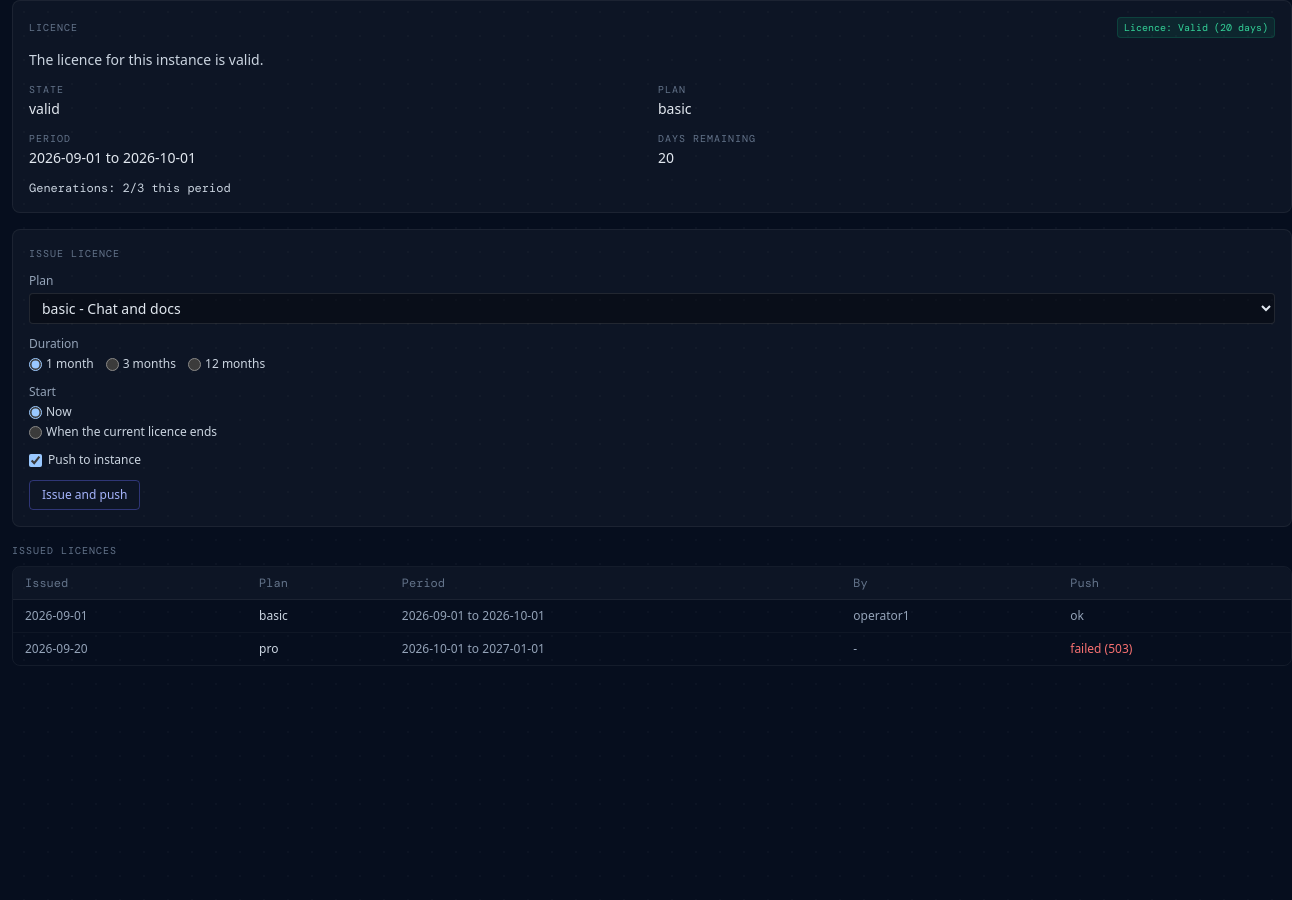
Test: licence issue form › shows a push failure with the status and the instance reason
The width and height of the screenshot is (1292, 900).
Click the button "Issue and push" at {"x": 85, "y": 495}, box [29,480,140,510]
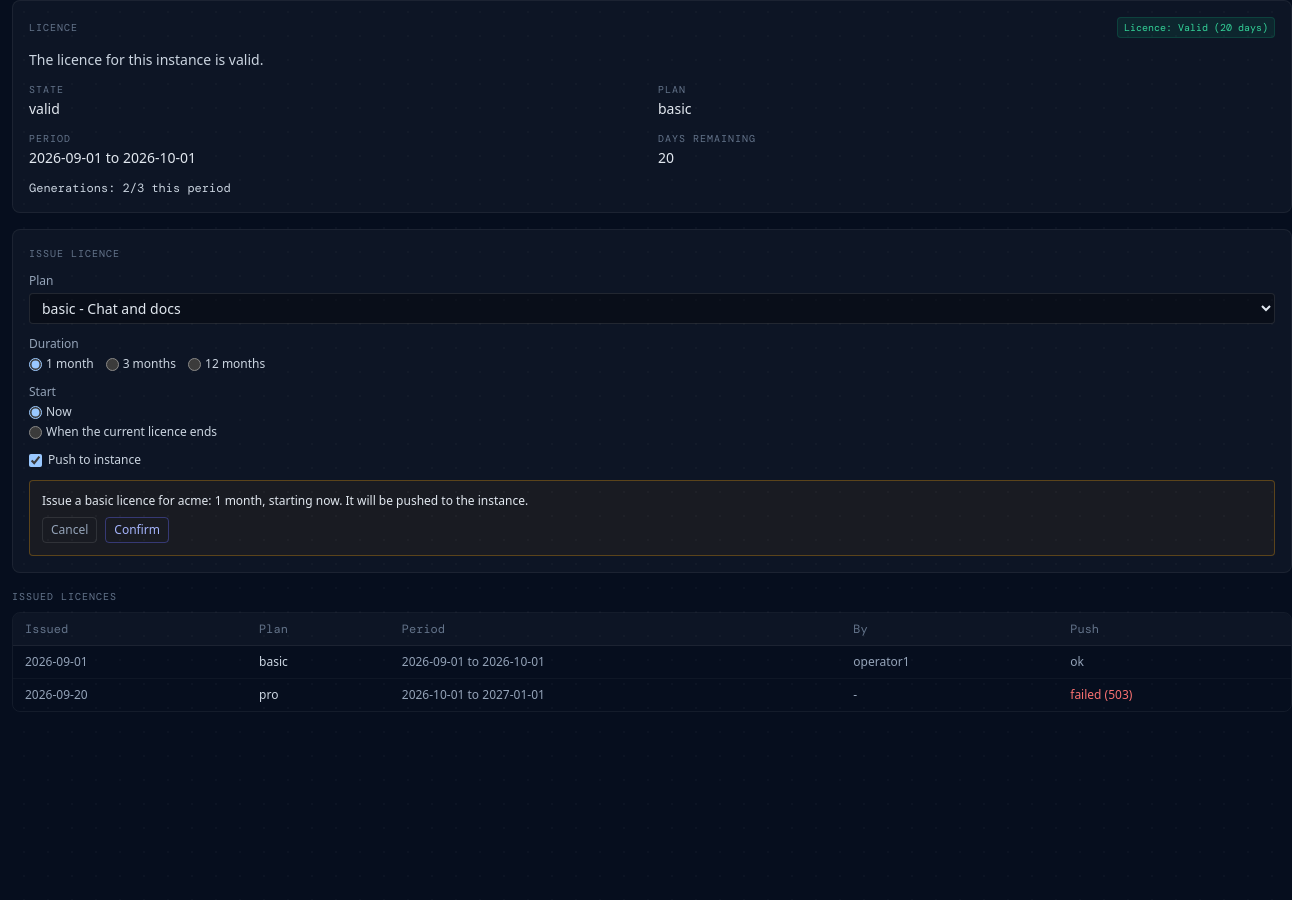
Click the button "Confirm" at {"x": 137, "y": 530}, box [105,517,169,543]
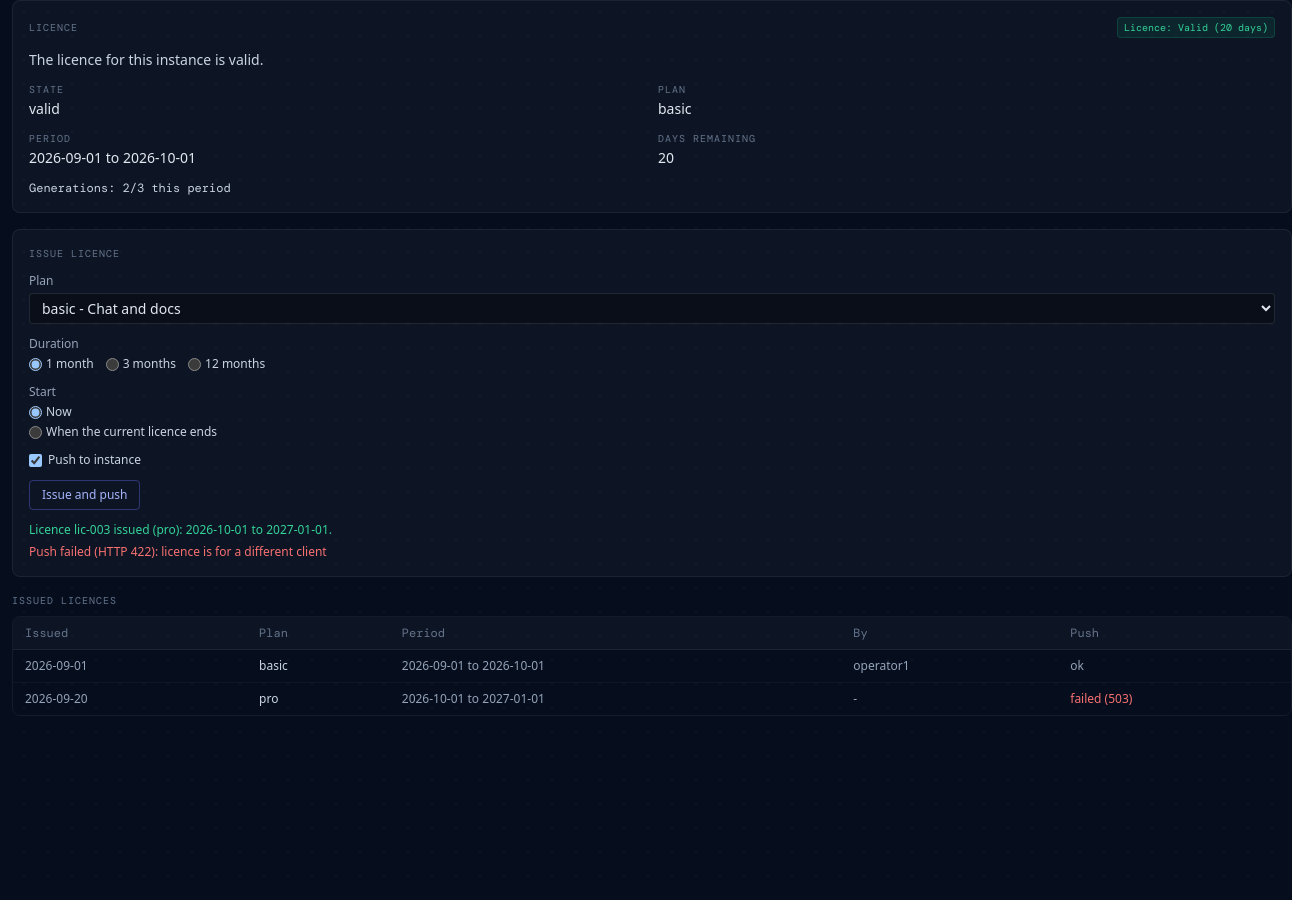
Now the message reads "Push failed (HTTP 422): licence is for a different client", box [29,543,327,560]
